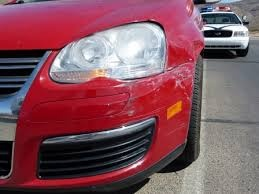Scratch: (123, 62, 197, 103)
